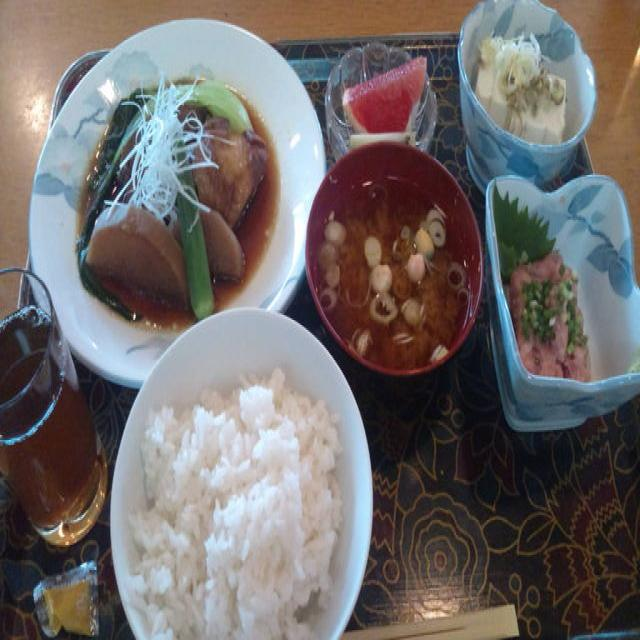汤锅炖物: (314, 178, 472, 374)
猪肉菜式: (70, 68, 276, 325)
米饭主食: (114, 348, 356, 640)
豆腐料理: (464, 13, 582, 148)
